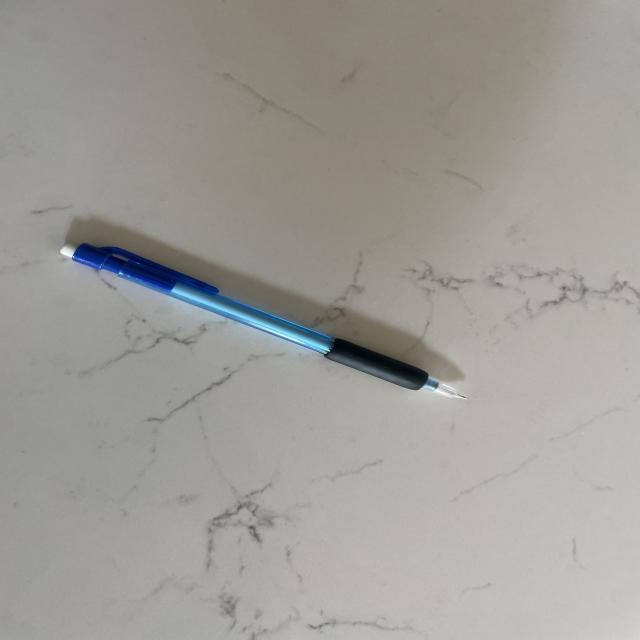mechanical-pencils: (50, 234, 471, 410)
